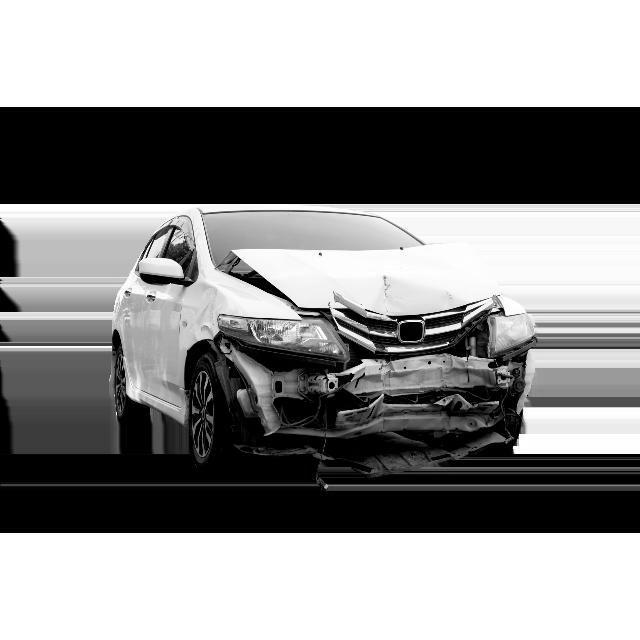bonnet-dent: (238, 249, 524, 330)
front-bumper-dent: (236, 350, 526, 456)
